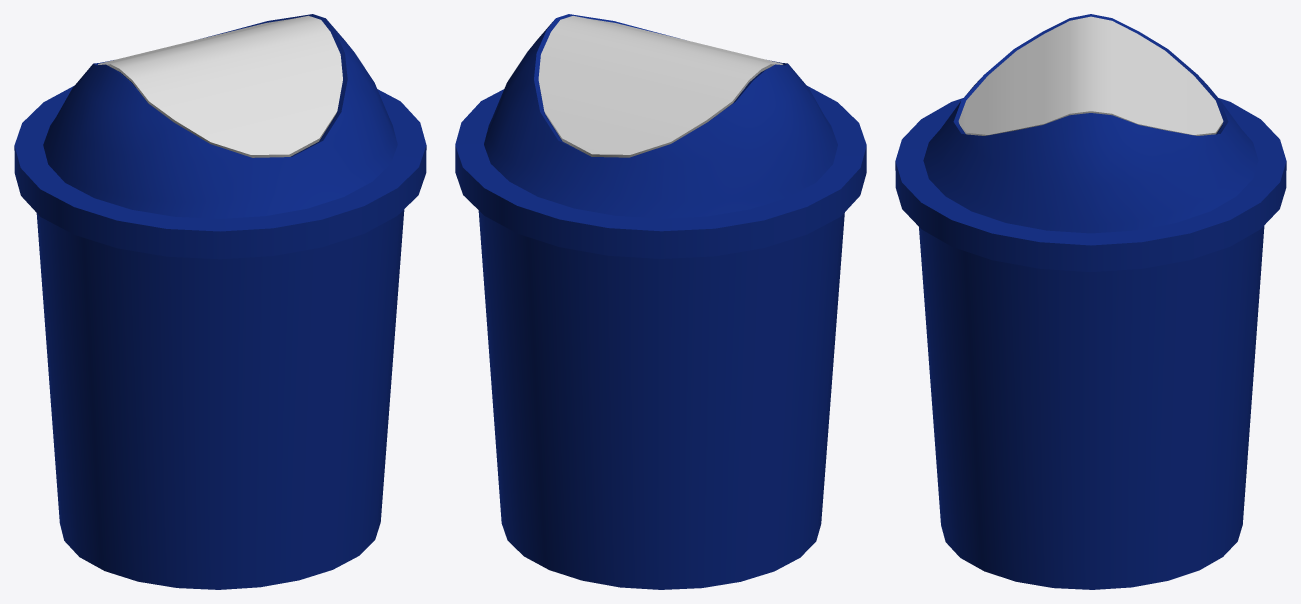
Rendered from Dustbin (2).fbx.
3 renders of one model, left to right at view 1: azimuth 30°, elevation 25°; view 2: azimuth 150°, elevation 25°; view 3: azimuth 270°, elevation 25°, orthographic. The views are drawn at different scales.
Parts seen in each view (by area): view 1: CylinderFPart17, Part17CylinderFB, Part17CylinderFBX; view 2: CylinderFPart17, Part17CylinderFB, Part17CylinderFBX; view 3: CylinderFPart17, Part17CylinderFB, Part17CylinderFBX.
Part boxes in pixels (x1=…): CylinderFPart17: x1=36, y1=88, x2=404, y2=589; Part17CylinderFB: x1=14, y1=14, x2=426, y2=259; Part17CylinderFBX: x1=98, y1=15, x2=342, y2=157; CylinderFPart17: x1=478, y1=88, x2=844, y2=589; Part17CylinderFB: x1=455, y1=14, x2=866, y2=258; Part17CylinderFBX: x1=538, y1=16, x2=783, y2=157; CylinderFPart17: x1=919, y1=125, x2=1264, y2=589; Part17CylinderFB: x1=895, y1=14, x2=1286, y2=271; Part17CylinderFBX: x1=958, y1=16, x2=1223, y2=135.
Size of the model in its own units: 0.4251 by 0.5406 by 0.4154.
